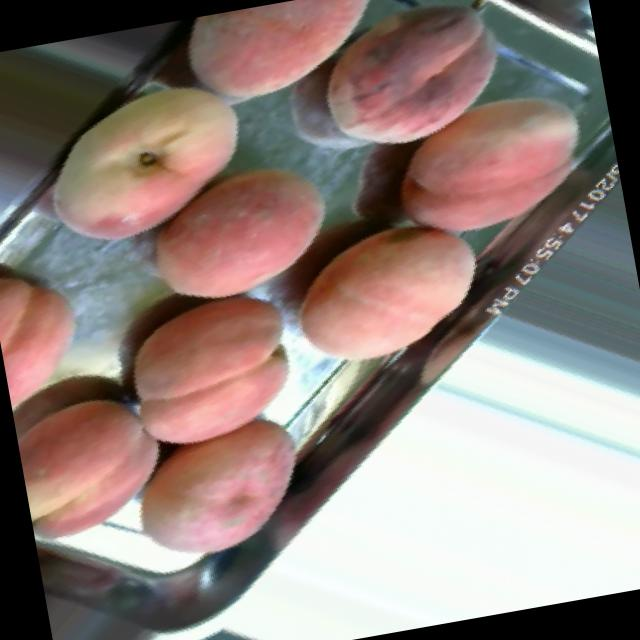Fruit: (86, 336, 343, 604), (11, 44, 282, 275), (360, 58, 617, 271), (265, 187, 511, 400), (117, 124, 359, 317), (282, 0, 529, 183), (7, 360, 185, 573), (161, 0, 415, 139), (0, 244, 108, 441)
